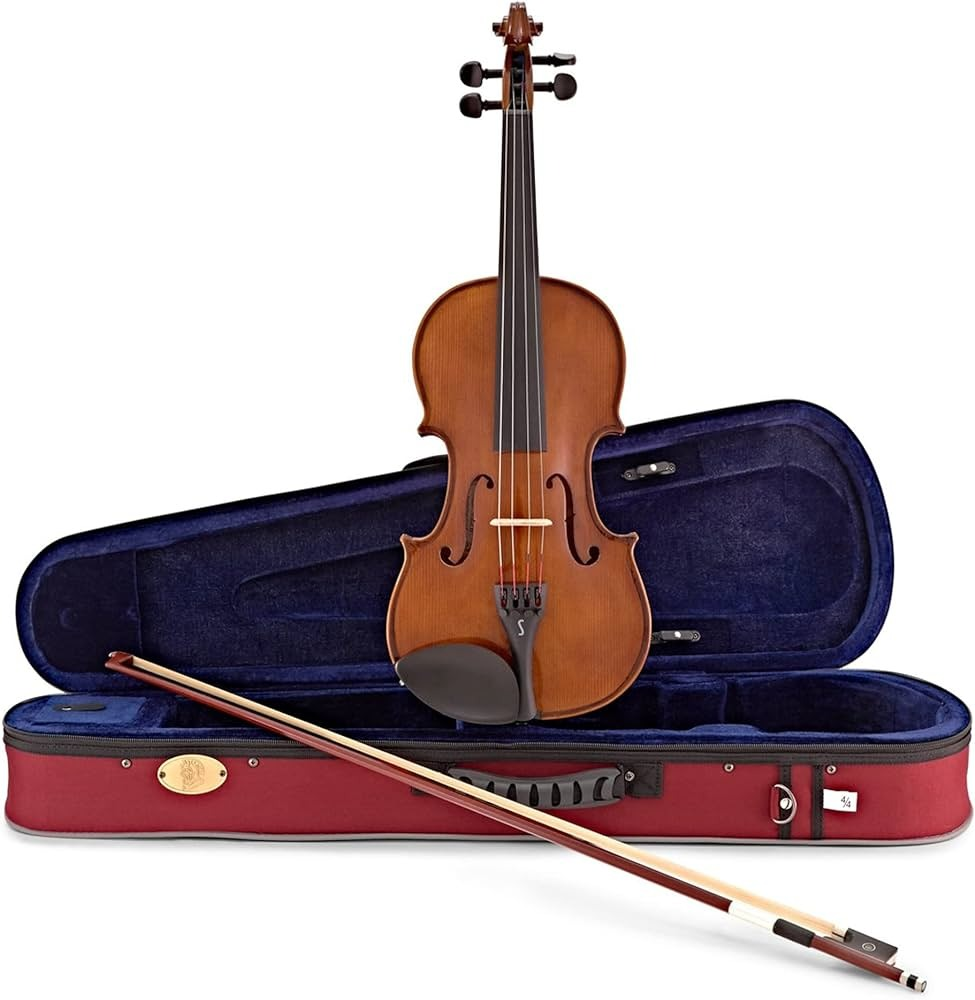Violin: (34, 7, 949, 1000)
